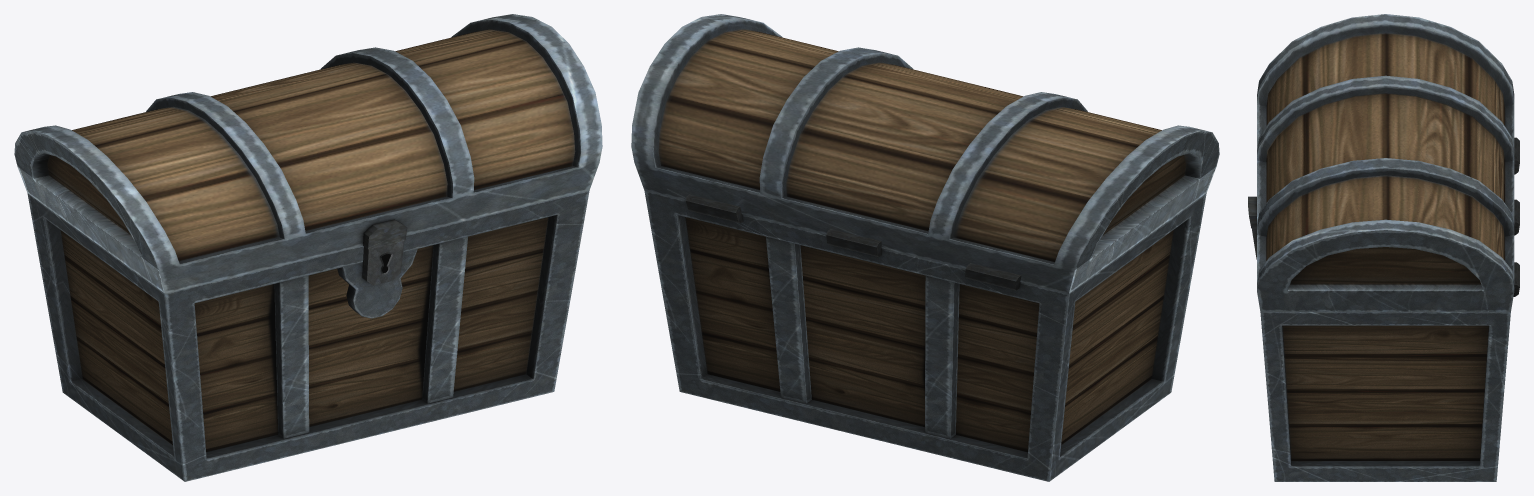
Rendered from TreasureChest.obj.
3 views of the same model, side by side, from view 1: azimuth 30°, elevation 25°; view 2: azimuth 150°, elevation 25°; view 3: azimuth 270°, elevation 25° (orthographic). The views are drawn at different scales.
Parts seen in each view (by area): view 1: Mesh; view 2: Mesh; view 3: Mesh.
Boxes of the visible parts, bbox=[...] form: Mesh: bbox=[14, 14, 602, 481]; Mesh: bbox=[631, 14, 1219, 481]; Mesh: bbox=[1248, 14, 1519, 481].
Size of the model in its own units: 2.55 by 1.53 by 1.36.
